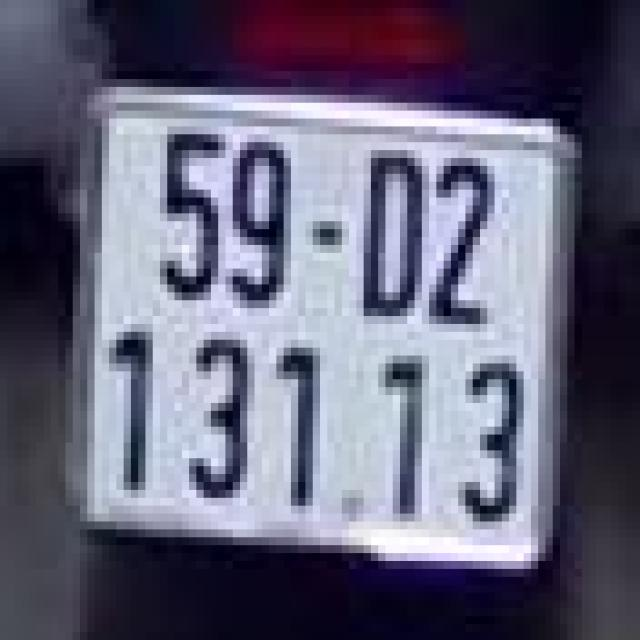1: (98, 308, 171, 506), (269, 332, 335, 513), (374, 348, 426, 529)
2: (426, 142, 506, 340)
3: (448, 344, 528, 541), (182, 328, 262, 502)
5: (156, 123, 222, 312)
9: (222, 119, 302, 316)
D: (349, 134, 422, 324)
